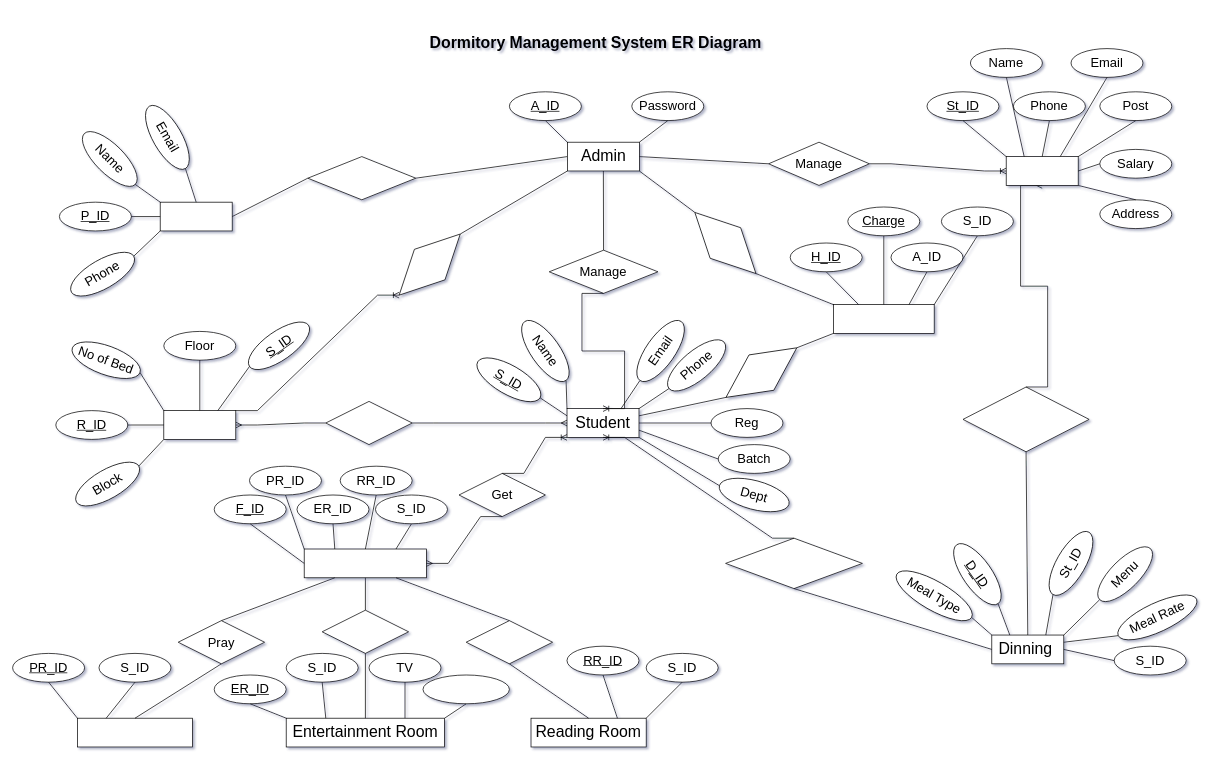
Image size: 1220x764. Some labels were removed from this diagram. Here are the shapes that lost their labels. From the top down, the box of each, then its label:
(307, 156, 416, 200): Control
(1005, 156, 1078, 185): Staff
(159, 201, 232, 231): Provost
(679, 196, 771, 289): Collect
(383, 218, 476, 311): Allocate
(833, 304, 934, 333): Hall Charge
(713, 329, 809, 415): Pay
(163, 410, 236, 439): Room
(325, 401, 412, 445): Hold
(962, 386, 1089, 452): Prepare meal
(303, 548, 427, 578): Facility
(725, 537, 862, 589): Meal Requests
(321, 609, 409, 653): Entertain
(465, 620, 553, 664): Read
(422, 674, 509, 704): Table Tennis
(77, 717, 193, 747): Prayer Room
